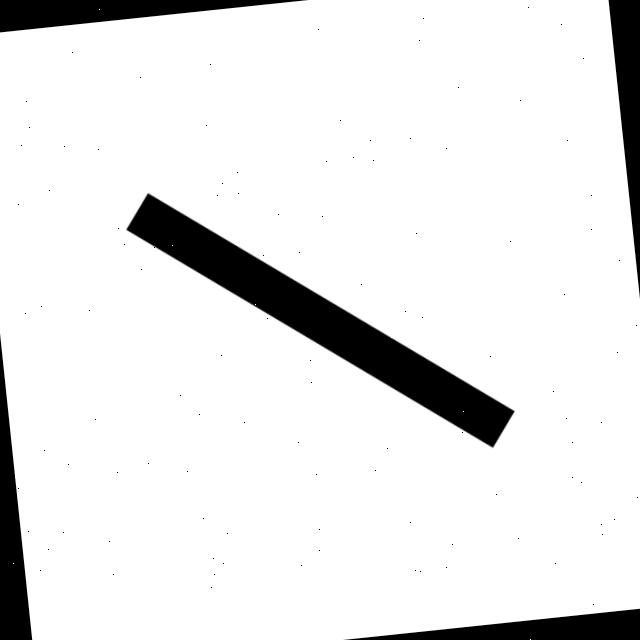line: (125, 192, 514, 447)
